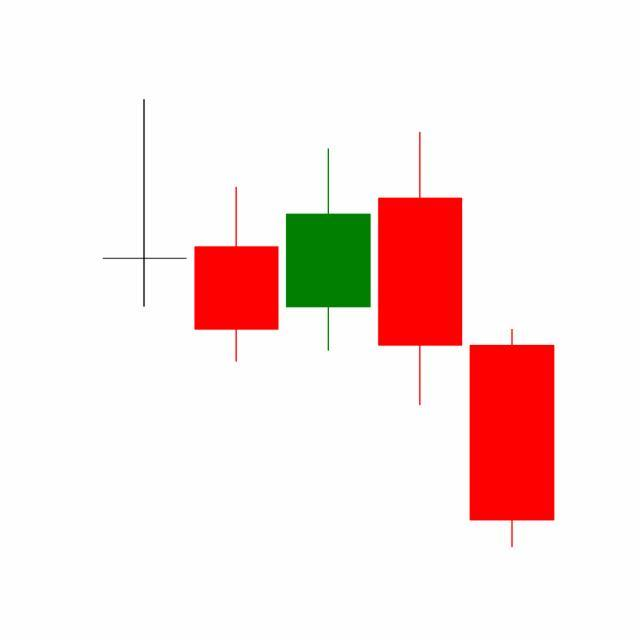Three Outside Up-Down: (280, 128, 555, 549)
